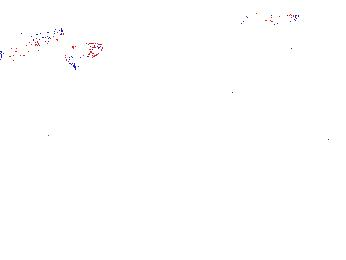X-ray fish: (214, 78, 238, 103)
redtail glassfish: (1, 25, 67, 61), (233, 7, 301, 30), (233, 37, 298, 59), (63, 42, 105, 71)
